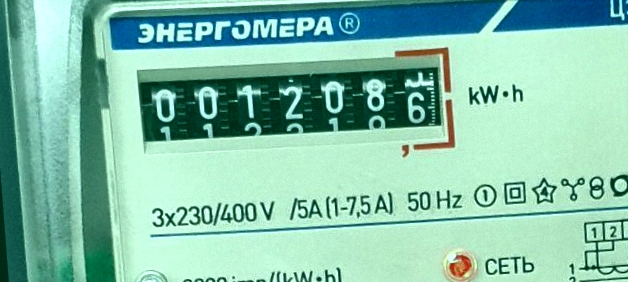0: (151, 84, 180, 125), (195, 83, 222, 121), (320, 77, 346, 115)
1: (237, 81, 261, 121)
2: (279, 82, 308, 122)
6: (403, 88, 428, 126)
8: (361, 75, 388, 114)
screen: (129, 38, 466, 177)
